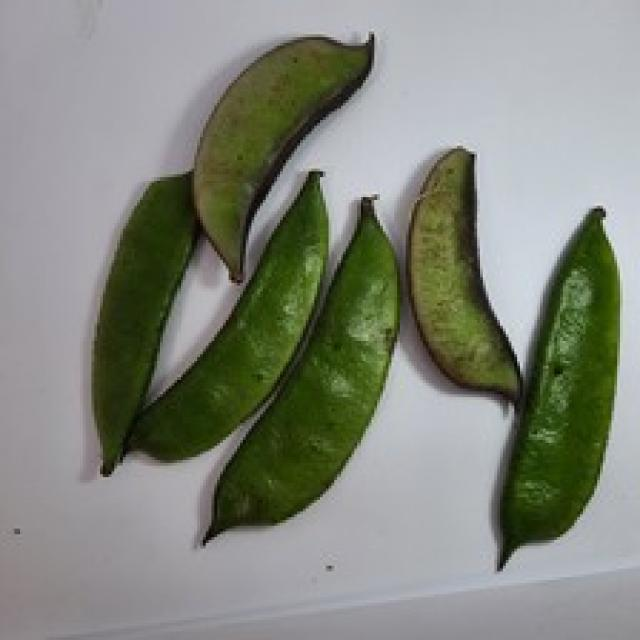Bean: (200, 191, 400, 546), (120, 166, 329, 463), (189, 28, 374, 283), (494, 203, 620, 568), (89, 169, 197, 474), (403, 143, 523, 406)
